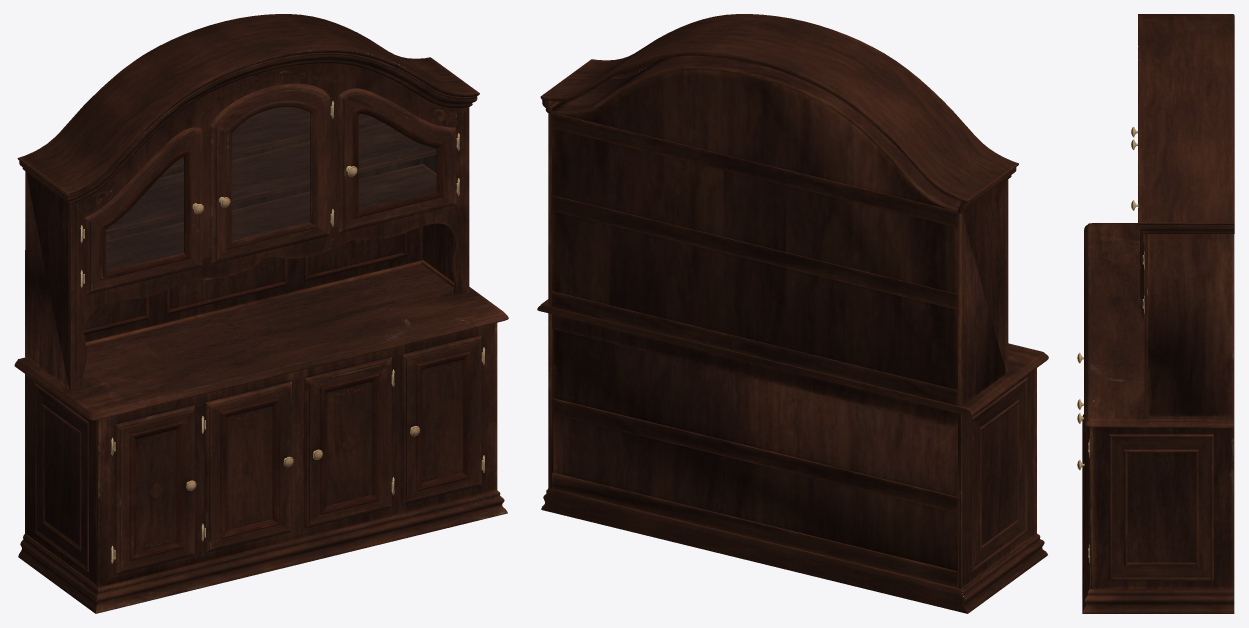
File: vintage_cabinet_01.glb
3 views of the same model, side by side, from view 1: azimuth 30°, elevation 25°; view 2: azimuth 150°, elevation 25°; view 3: azimuth 270°, elevation 25° (orthographic). The views are drawn at different scales.
Visible parts, largest first — view 1: vintage_cabinet_01_body, vintage_cabinet_01_door_03, vintage_cabinet_01_door_01, vintage_cabinet_01_door_04, vintage_cabinet_01_door_07, vintage_cabinet_01_door_06, vintage_cabinet_01_door_02, vintage_cabinet_01_door_05; view 2: vintage_cabinet_01_body; view 3: vintage_cabinet_01_body, vintage_cabinet_01_door_02, vintage_cabinet_01_door_04.
Part boxes in pixels (x1,y1,x2,y2): vintage_cabinet_01_body: [14, 14, 508, 613]; vintage_cabinet_01_door_03: [210, 83, 332, 264]; vintage_cabinet_01_door_01: [83, 127, 203, 295]; vintage_cabinet_01_door_04: [338, 88, 458, 233]; vintage_cabinet_01_door_07: [304, 357, 392, 528]; vintage_cabinet_01_door_06: [204, 381, 293, 552]; vintage_cabinet_01_door_02: [401, 335, 483, 504]; vintage_cabinet_01_door_05: [113, 405, 196, 574]; vintage_cabinet_01_body: [537, 14, 1048, 613]; vintage_cabinet_01_body: [1082, 14, 1234, 613]; vintage_cabinet_01_door_02: [1077, 426, 1089, 572]; vintage_cabinet_01_door_04: [1131, 200, 1144, 319].
Bounding box in the file's own units: 2.02 × 2.23 × 0.6698.
3 materials, 2 textured.
